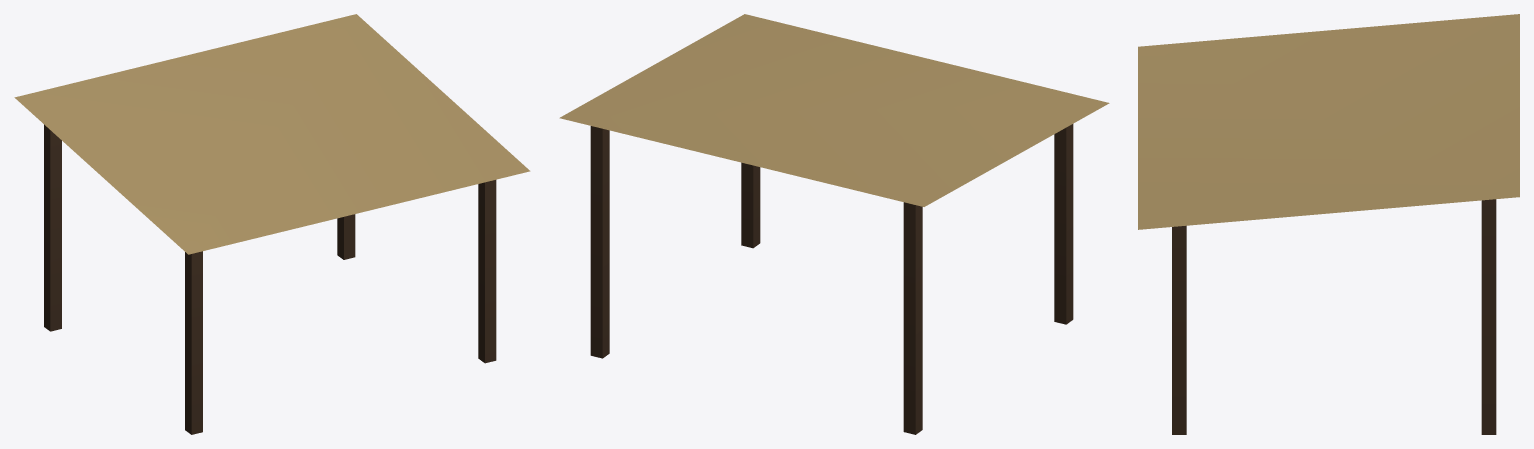
Rendered from caral_fair_tent_lod1.glb.
The picture shows the model from 3 angles, left to right: view 1: azimuth 30°, elevation 25°; view 2: azimuth 150°, elevation 25°; view 3: azimuth 270°, elevation 25°; orthographic projection. The views are drawn at different scales.
Parts seen in each view (by area): view 1: GEO-Arch_fair_tent_LOD1; view 2: GEO-Arch_fair_tent_LOD1; view 3: GEO-Arch_fair_tent_LOD1.
Boxes of the visible parts, x1,y1,x2,y2 form: GEO-Arch_fair_tent_LOD1: (14,14,530,434); GEO-Arch_fair_tent_LOD1: (559,14,1109,434); GEO-Arch_fair_tent_LOD1: (1138,14,1519,434).
Size of the model in its own units: 4.2 by 2.65 by 3.7.
